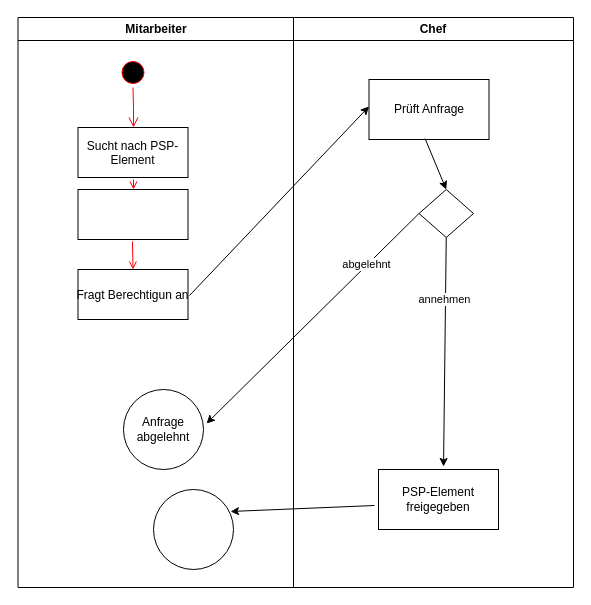
The diagram is 591 pixels wide and 605 high, and some of its shapes have lost their labels. The shapes that lost their labels are listed below. From the top down, each one's centre as x and y in pixels, then its label:
the point at 132,214: Wählt PSP-Element aus
the point at 446,213: Anfrage
the point at 193,529: Anfrage angenommen
